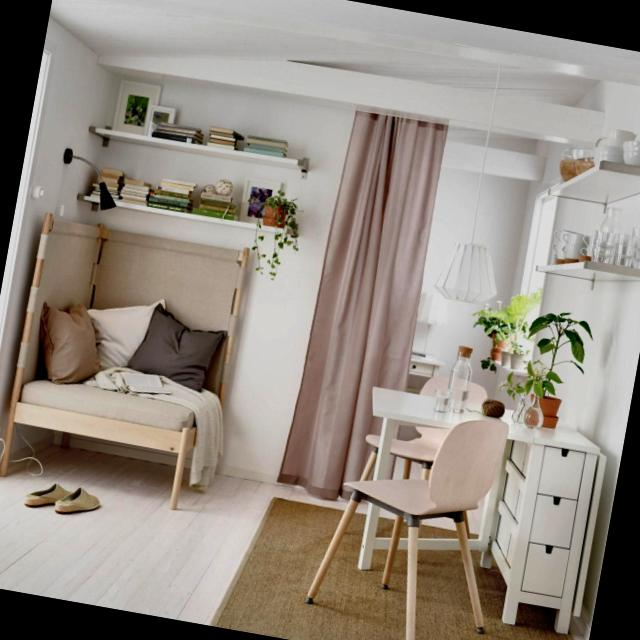obstacle: (0, 201, 261, 550), (296, 388, 523, 640), (477, 401, 615, 640)
